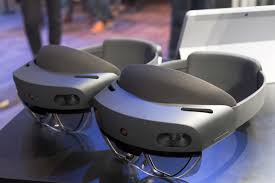hololens: (93, 42, 267, 179), (15, 35, 164, 134)
